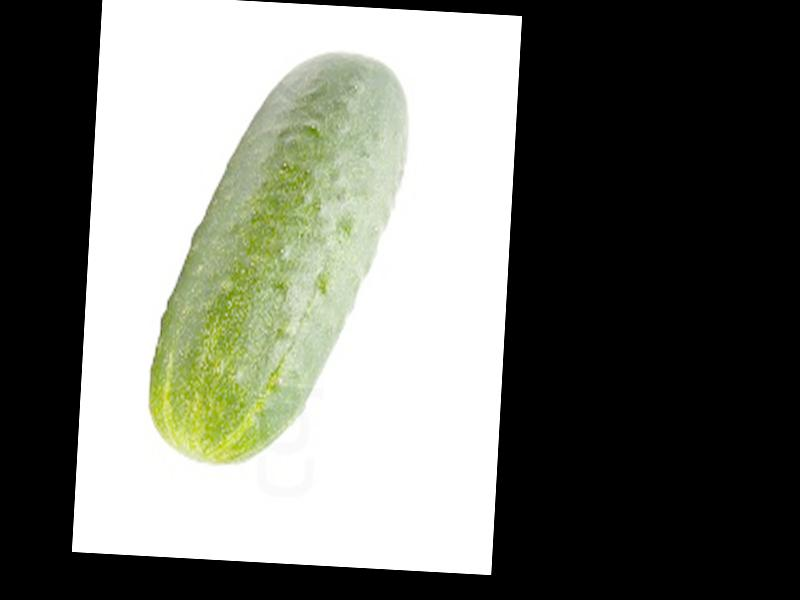Cucumber: (148, 43, 413, 475)
